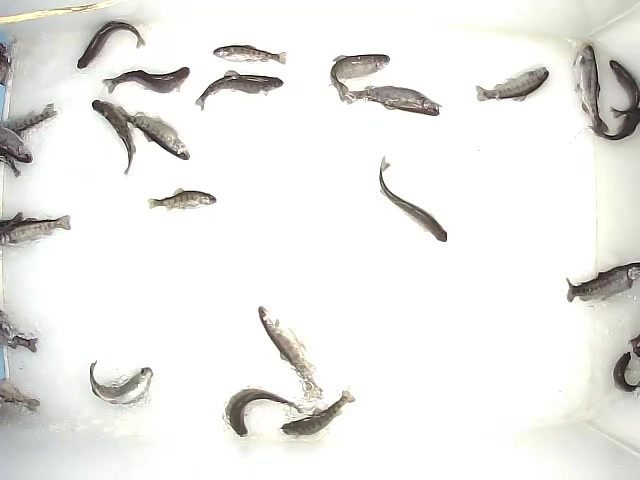fish: (257, 304, 326, 401), (378, 155, 449, 243), (114, 104, 191, 162), (223, 387, 304, 438), (194, 69, 285, 112), (571, 43, 611, 137), (75, 19, 146, 71), (91, 99, 137, 178), (344, 84, 443, 118), (566, 261, 640, 305), (89, 359, 154, 406), (475, 65, 551, 104), (328, 53, 391, 100), (281, 394, 348, 436), (101, 66, 191, 96), (1, 211, 73, 248), (1, 102, 58, 139), (608, 58, 640, 119), (588, 106, 640, 142), (147, 187, 217, 213), (212, 43, 288, 66), (611, 351, 640, 395), (1, 126, 34, 164)
